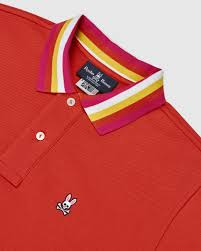S_polo shirt: (1, 10, 197, 246)
